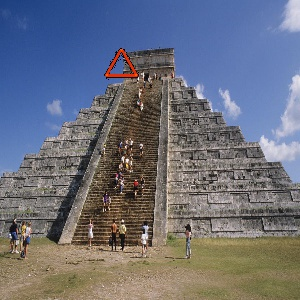triangle: (104, 44, 140, 81)
